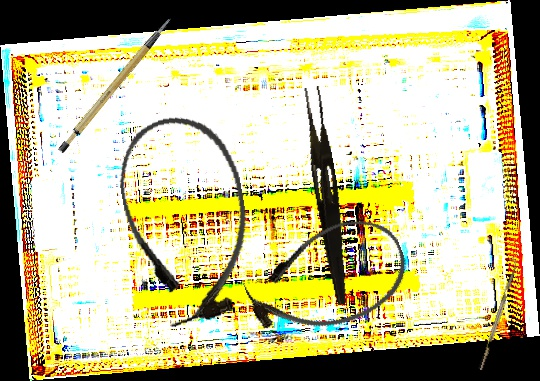Cannula: (109, 106, 264, 333), (235, 205, 419, 353)
Chopper: (473, 256, 521, 371)
Dressing Forceps: (296, 85, 358, 306)
Scalpel Handle: (42, 16, 192, 156)
